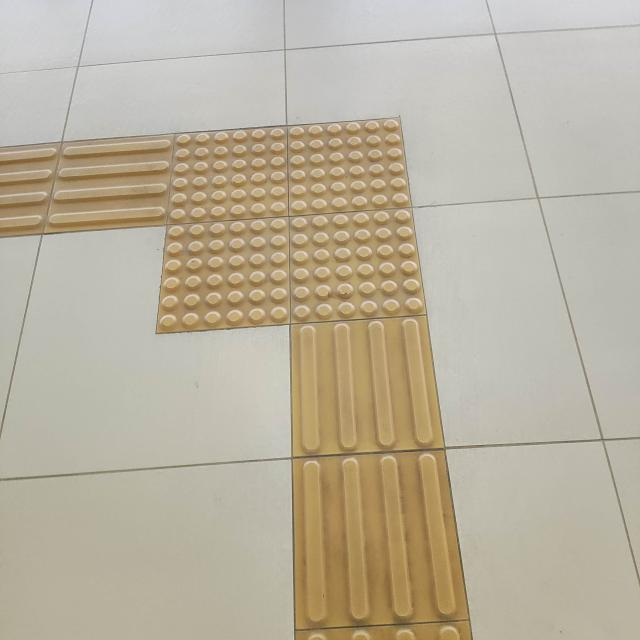kiri: (0, 74, 521, 428)
